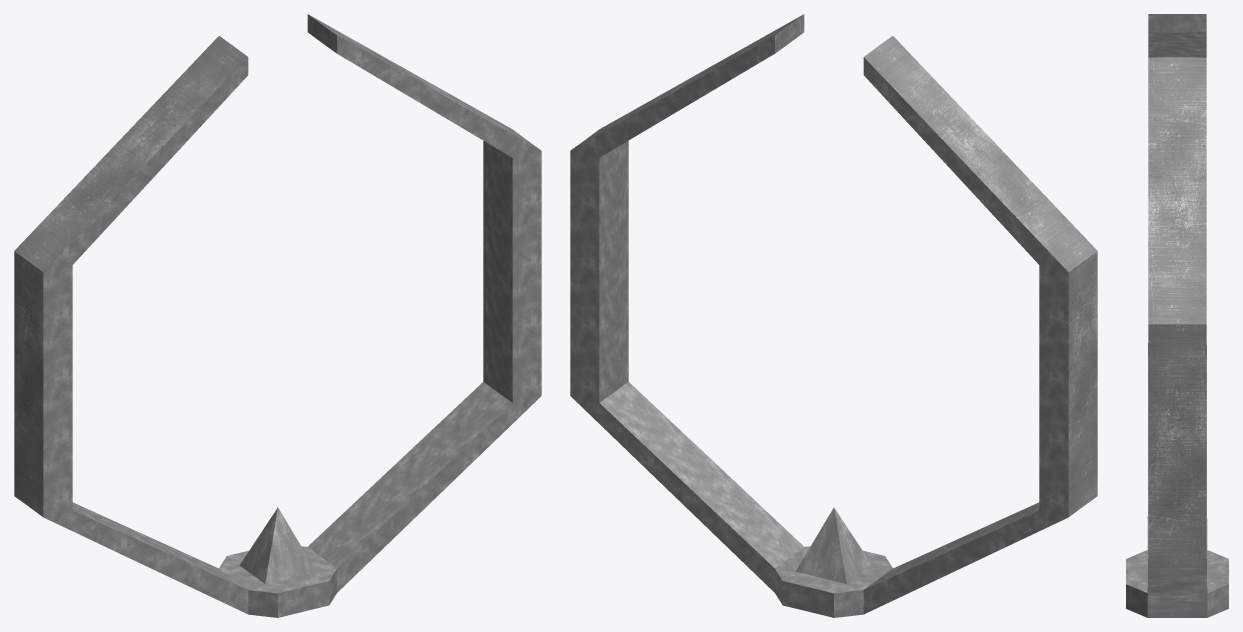
Rendered from QuarantineWall-Connector-Gate.obj.
The picture shows the model from 3 angles, left to right: view 1: azimuth 30°, elevation 25°; view 2: azimuth 150°, elevation 25°; view 3: azimuth 270°, elevation 25°; orthographic projection.
Visible parts, largest first — view 1: QuarantineWall-Connector-Gate; view 2: QuarantineWall-Connector-Gate; view 3: QuarantineWall-Connector-Gate.
Boxes of the visible parts, x1,y1,x2,y2 form: QuarantineWall-Connector-Gate: [14, 14, 541, 617]; QuarantineWall-Connector-Gate: [570, 14, 1097, 617]; QuarantineWall-Connector-Gate: [1126, 14, 1228, 617].
Bounding box in the file's own units: 8.52 × 9.1 × 1.52.
